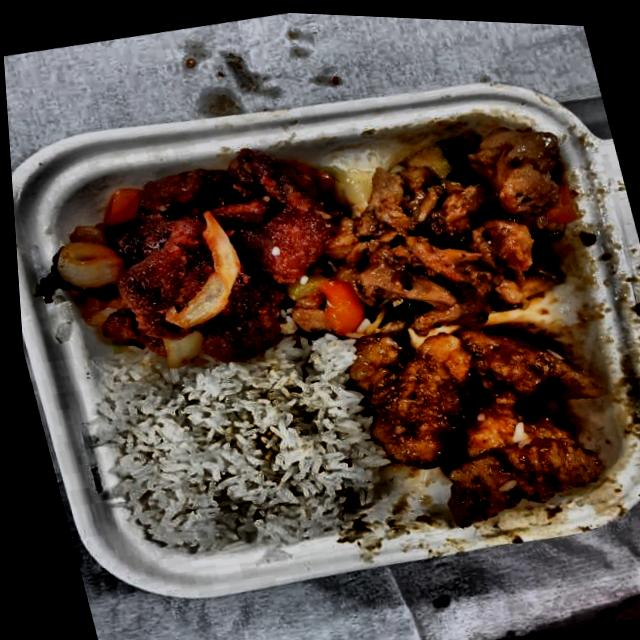Food: (13, 116, 369, 382), (295, 85, 614, 356), (76, 323, 394, 576), (343, 292, 623, 536)
